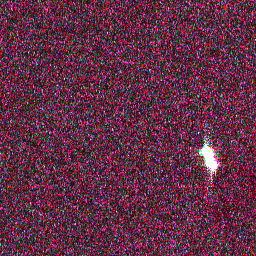ship: (198, 142, 220, 173)
